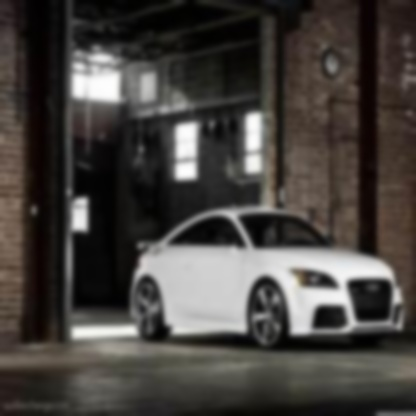Vehicle: (130, 205, 406, 355)
